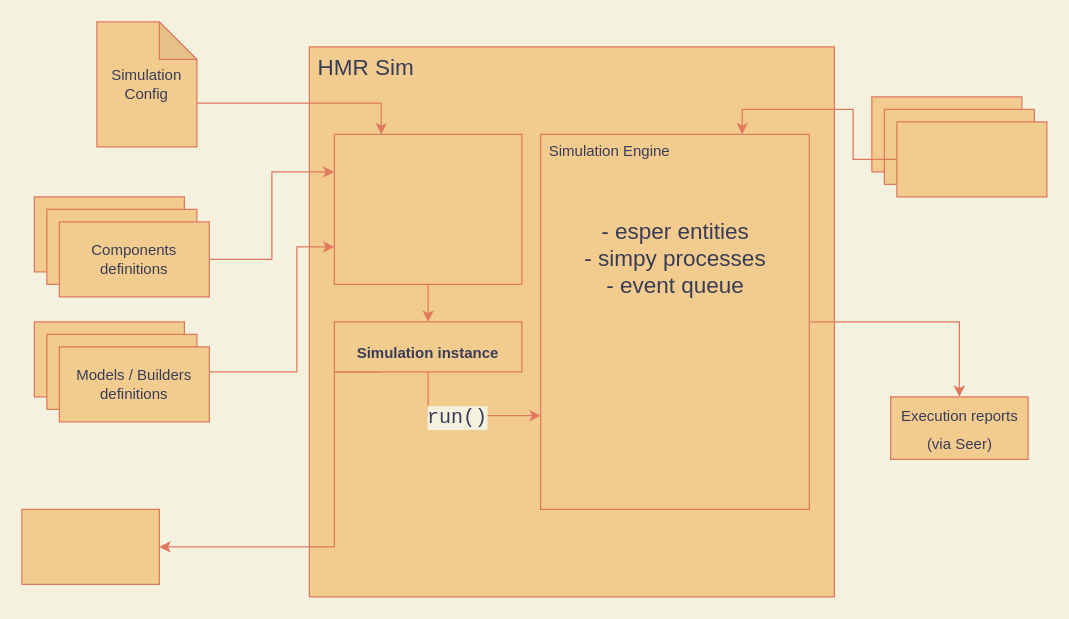
The diagram is 1069 pixels wide and 619 high, and some of its shapes have lost their labels. Each missing label, with the centre of its shape:
Simulation build report: [90,546]
Simulation Parser: [427,208]
Systems definitions: [971,159]
